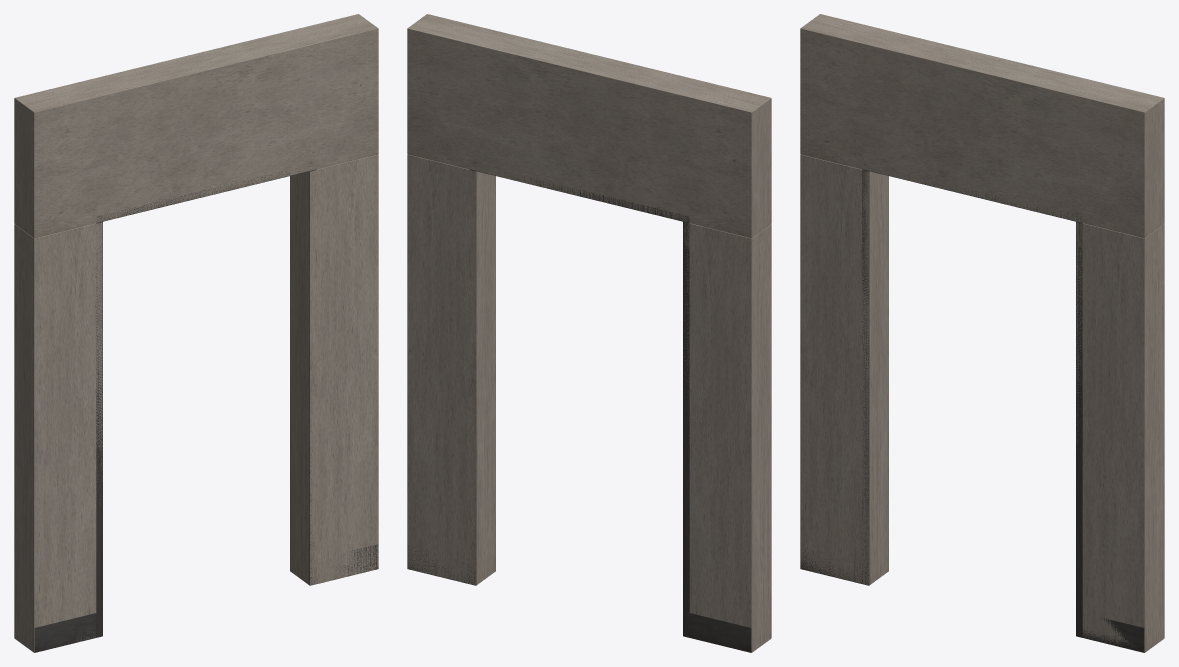
File: SM_FacilityRooms_Doorway200.fbx
3 views of the same model, side by side, from view 1: azimuth 30°, elevation 25°; view 2: azimuth 150°, elevation 25°; view 3: azimuth 330°, elevation 25° (orthographic).
Visible parts, largest first — view 1: SM_FacilityRooms_Doorway200; view 2: SM_FacilityRooms_Doorway200; view 3: SM_FacilityRooms_Doorway200.
Boxes of the visible parts, x1,y1,x2,y2 form: SM_FacilityRooms_Doorway200: [14, 14, 378, 652]; SM_FacilityRooms_Doorway200: [407, 14, 771, 652]; SM_FacilityRooms_Doorway200: [800, 14, 1164, 652].
Size of what is drawn, in the model's own units: 200 by 20 by 300.
